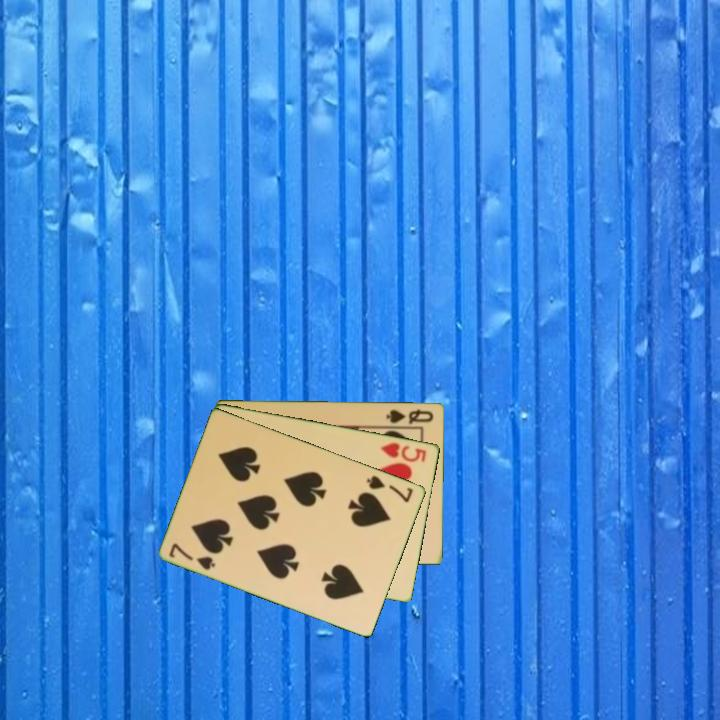5h: (377, 439, 430, 465)
7s: (166, 539, 219, 573), (363, 472, 416, 505)
Qs: (383, 405, 436, 427)
